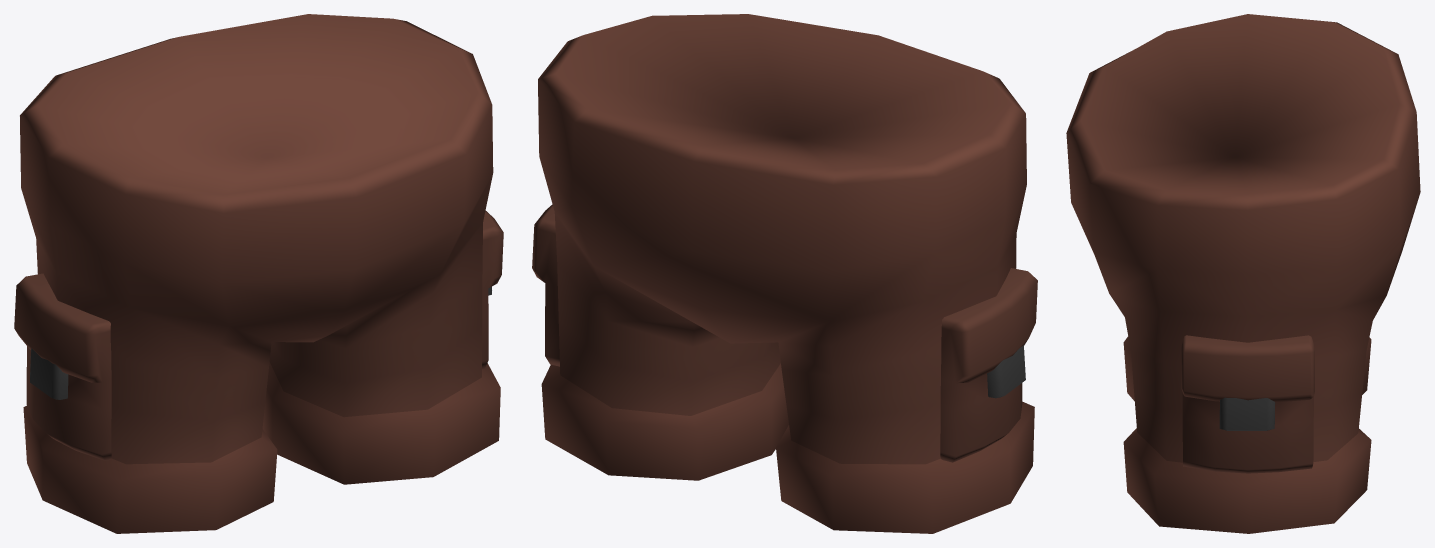
The model's file is Bottom_11.fbx.
3 views of the same model, side by side, from view 1: azimuth 30°, elevation 25°; view 2: azimuth 150°, elevation 25°; view 3: azimuth 270°, elevation 25° (orthographic). The views are drawn at different scales.
Visible parts, largest first — view 1: Bottom_11; view 2: Bottom_11; view 3: Bottom_11.
Boxes of the visible parts, x1=… form: Bottom_11: x1=14, y1=14, x2=503, y2=533; Bottom_11: x1=532, y1=14, x2=1037, y2=533; Bottom_11: x1=1066, y1=14, x2=1420, y2=533.
Bounding box in the file's own units: 40.16 × 32.12 × 29.68.
